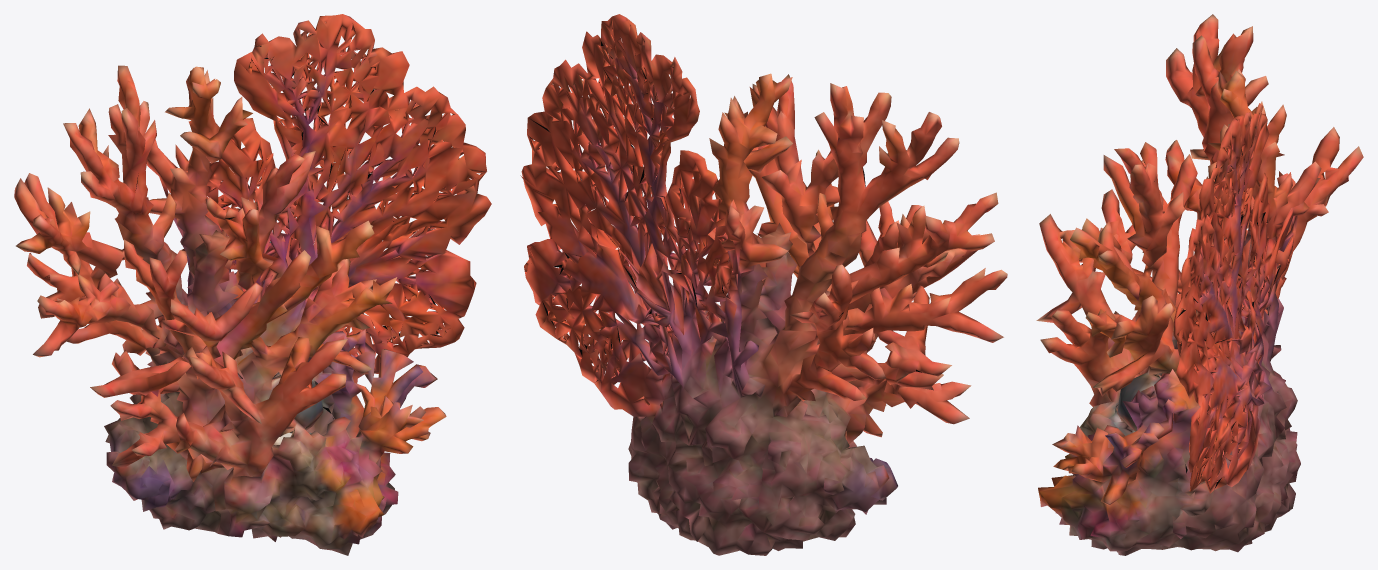
Rendered from coral.glb.
3 views of the same model, side by side, from view 1: azimuth 30°, elevation 25°; view 2: azimuth 150°, elevation 25°; view 3: azimuth 270°, elevation 25° (orthographic). The views are drawn at different scales.
Parts seen in each view (by area): view 1: Model; view 2: Model; view 3: Model.
Part boxes in pixels (box(x1,y1,x2,y2)): Model: box(14, 14, 491, 555); Model: box(520, 14, 1007, 555); Model: box(1036, 14, 1363, 555).
Bounding box in the file's own units: 1.89 × 1.81 × 1.19.
Materials: 1 (1 with a texture image).
